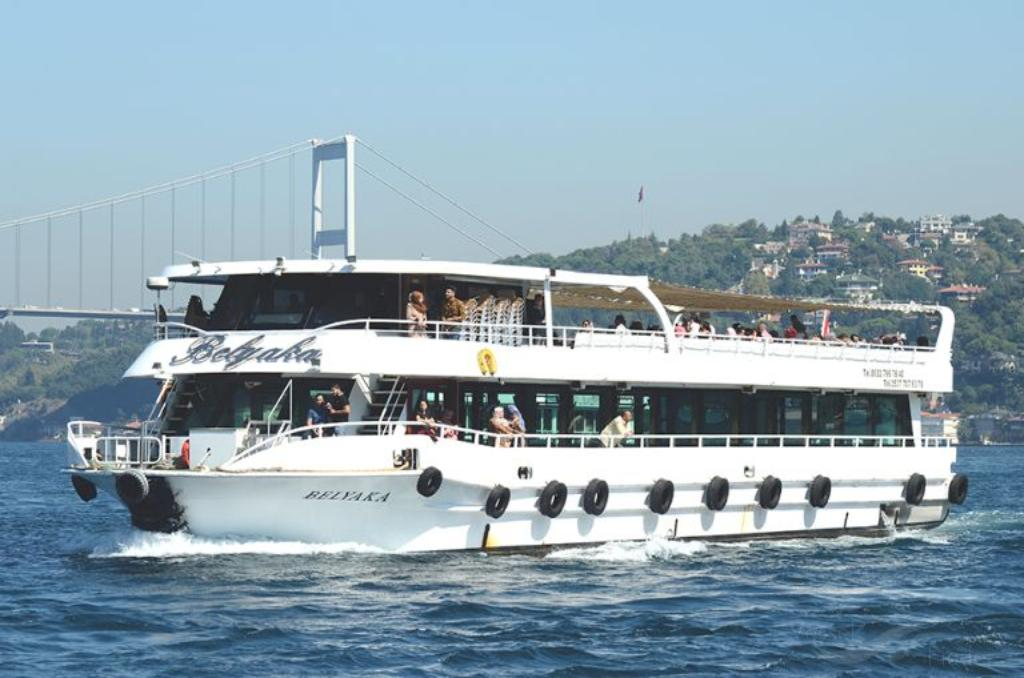PassengerShip: (46, 236, 984, 578)
